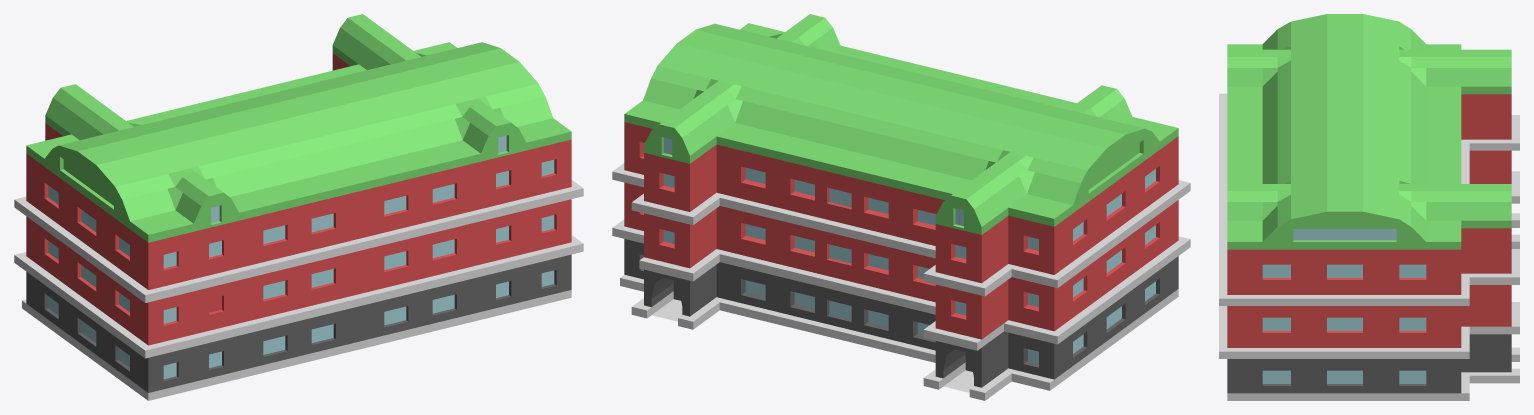
Rendered from MorHouse5.fbx.
3 views of the same model, side by side, from view 1: azimuth 30°, elevation 25°; view 2: azimuth 150°, elevation 25°; view 3: azimuth 270°, elevation 25° (orthographic). The views are drawn at different scales.
Visible parts, largest first — view 1: Cube.001; view 2: Cube.001; view 3: Cube.001.
Part boxes in pixels (left/top/right/bottom): Cube.001: left=14, top=14, right=583, bottom=400; Cube.001: left=612, top=14, right=1190, bottom=400; Cube.001: left=1219, top=14, right=1519, bottom=400.
Bounding box in the file's own units: 5800 × 2500 × 3600.
